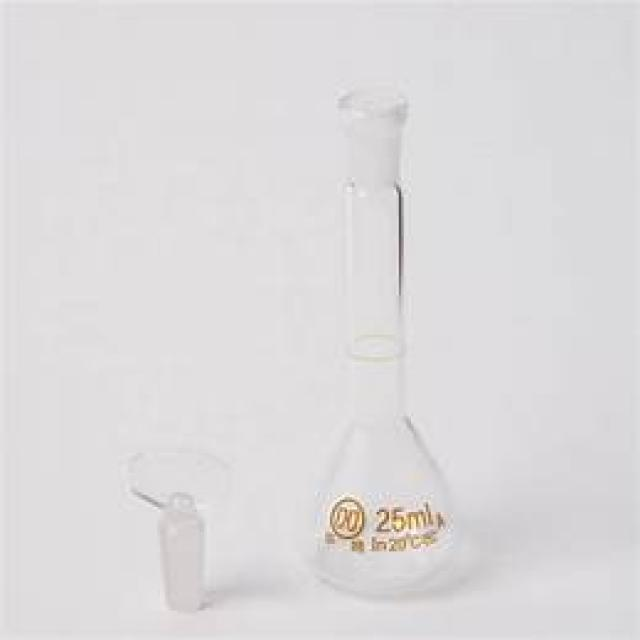Volumetric flask: (287, 74, 481, 591)
